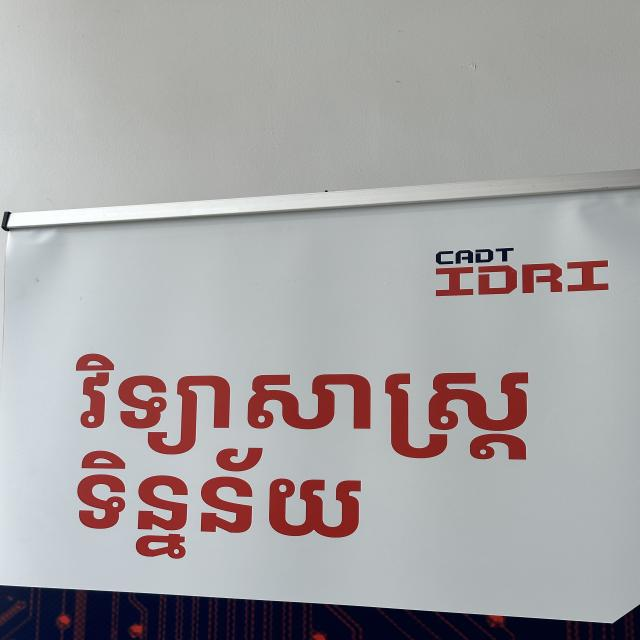Yolov11_80vkh: (44, 345, 559, 466), (47, 451, 395, 561)
